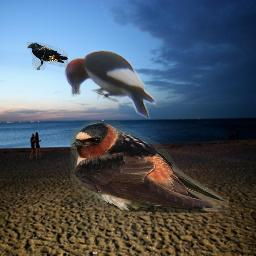Crow: (26, 42, 68, 70)
Swallow: (70, 121, 229, 215)
Woodpecker: (61, 48, 158, 120)
